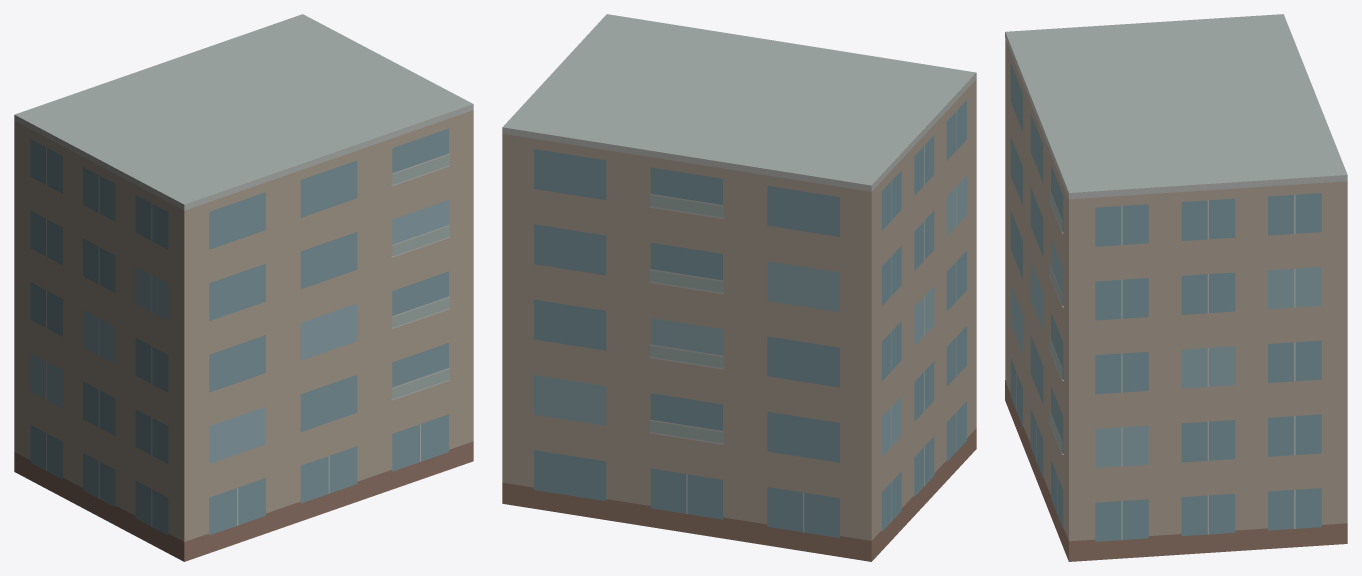
File: survey-upis-32527079.glb
3 renders of one model, left to right at view 1: azimuth 30°, elevation 25°; view 2: azimuth 150°, elevation 25°; view 3: azimuth 270°, elevation 25°, orthographic. The views are drawn at different scales.
Visible parts, largest first — view 1: survey-upis-32527079.tmp; view 2: survey-upis-32527079.tmp; view 3: survey-upis-32527079.tmp.
Boxes of the visible parts, x1=… form: survey-upis-32527079.tmp: x1=14, y1=14, x2=473, y2=561; survey-upis-32527079.tmp: x1=502, y1=14, x2=976, y2=561; survey-upis-32527079.tmp: x1=1005, y1=14, x2=1347, y2=561.
Size of the model in its own units: 15.05 by 14.45 by 12.17.
